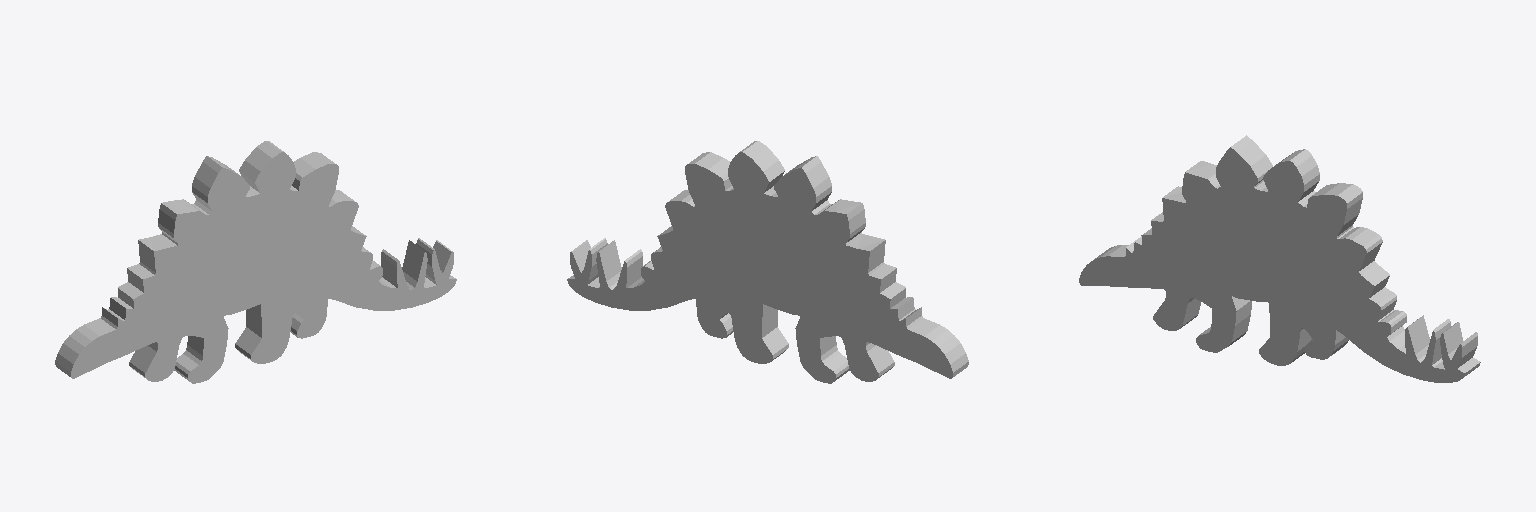
The model's file is pointydino.obj.
The picture shows the model from 3 angles: view 1: azimuth 30°, elevation 25°; view 2: azimuth 150°, elevation 25°; view 3: azimuth 330°, elevation 25°; orthographic projection.
Visible parts, largest first — view 1: pointydino:Mesh; view 2: pointydino:Mesh; view 3: pointydino:Mesh.
Boxes of the visible parts, x1=… form: pointydino:Mesh: x1=55, y1=141, x2=456, y2=383; pointydino:Mesh: x1=567, y1=141, x2=968, y2=383; pointydino:Mesh: x1=1079, y1=135, x2=1480, y2=382.
Bounding box in the file's own units: 28.04 × 14.65 × 2.